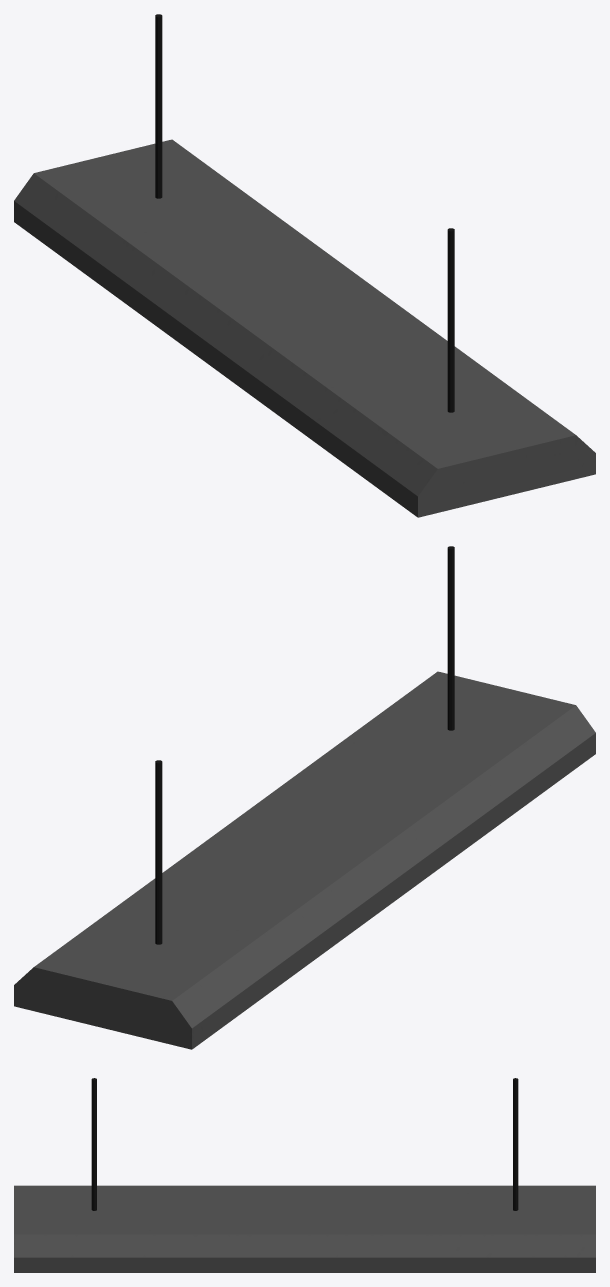
File: Flourescent_Light.fbx
The picture shows the model from 3 angles, top to bottom: view 1: azimuth 30°, elevation 25°; view 2: azimuth 150°, elevation 25°; view 3: azimuth 270°, elevation 25°; orthographic projection. The views are drawn at different scales.
Parts seen in each view (by area): view 1: FlourescentLight, FlourescentLight_Cables; view 2: FlourescentLight, FlourescentLight_Cables; view 3: FlourescentLight, FlourescentLight_Cables.
Part boxes in pixels (bbox=[...]): FlourescentLight: bbox=[14, 139, 595, 517]; FlourescentLight_Cables: bbox=[155, 14, 454, 412]; FlourescentLight: bbox=[14, 671, 595, 1049]; FlourescentLight_Cables: bbox=[155, 546, 454, 944]; FlourescentLight: bbox=[14, 1185, 595, 1272]; FlourescentLight_Cables: bbox=[91, 1078, 518, 1210].
Bounding box in the file's own units: 0.775 × 0.9381 × 3.05.
